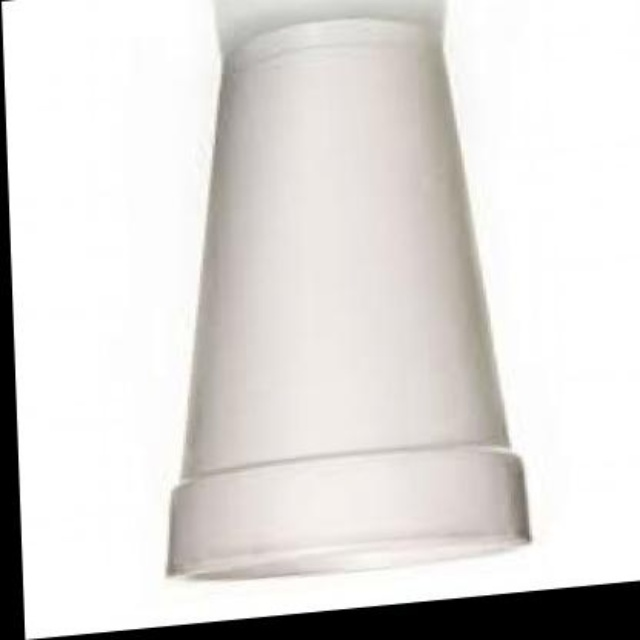trash: (169, 18, 528, 577)
